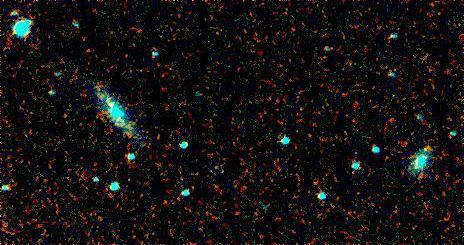star: (410, 134, 440, 164)
